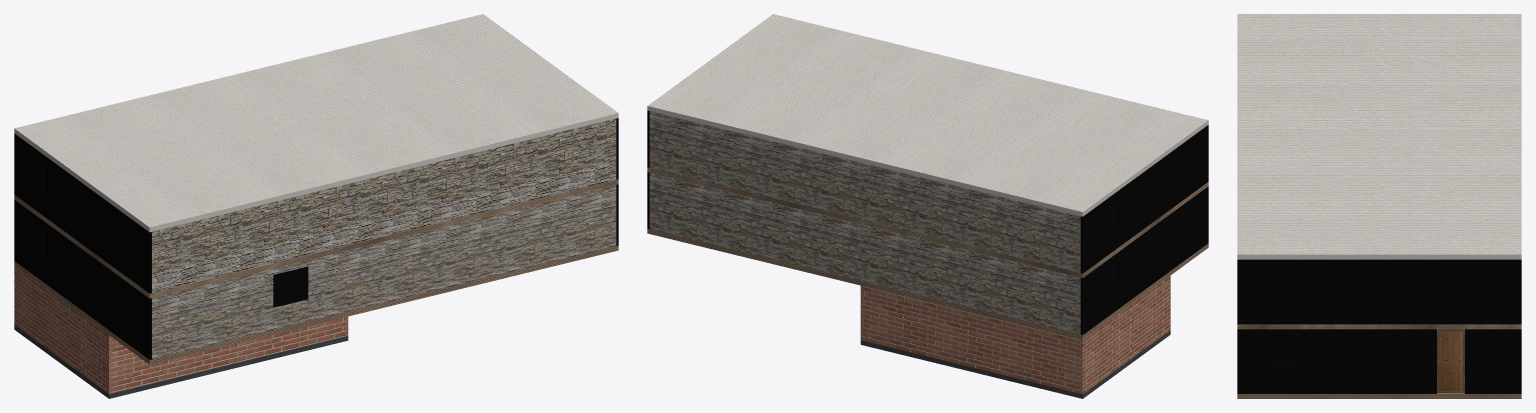
The model's file is CasaFinalFinal.fbx.
The picture shows the model from 3 angles, left to right: view 1: azimuth 30°, elevation 25°; view 2: azimuth 150°, elevation 25°; view 3: azimuth 270°, elevation 25°; orthographic projection. The views are drawn at different scales.
Visible parts, largest first — view 1: Cube.031; view 2: Cube.031; view 3: Cube.031.
Boxes of the visible parts, x1,y1,x2,y2 form: Cube.031: (14, 14, 618, 398); Cube.031: (647, 14, 1208, 398); Cube.031: (1237, 14, 1521, 398).
Size of the model in its own units: 2008 by 820 by 1000.
